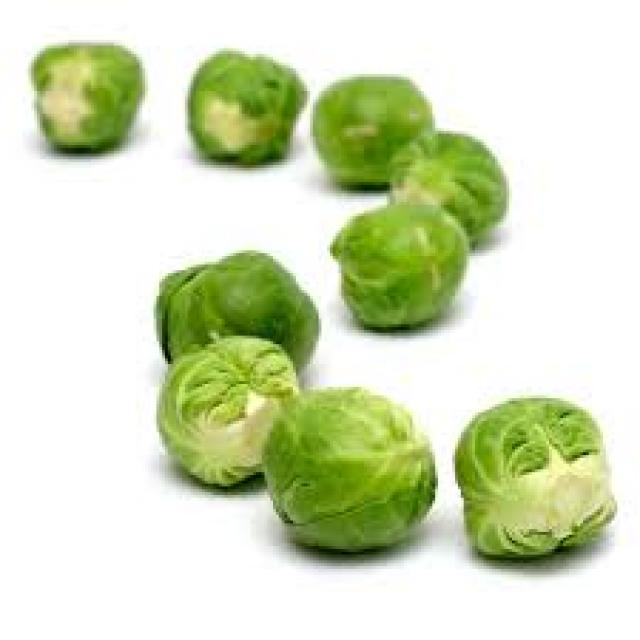organic waste: (256, 384, 435, 549), (450, 396, 614, 558), (148, 333, 299, 486), (150, 250, 318, 387), (327, 199, 467, 327), (185, 48, 304, 162), (310, 74, 430, 185), (29, 37, 142, 154), (387, 128, 503, 239)
